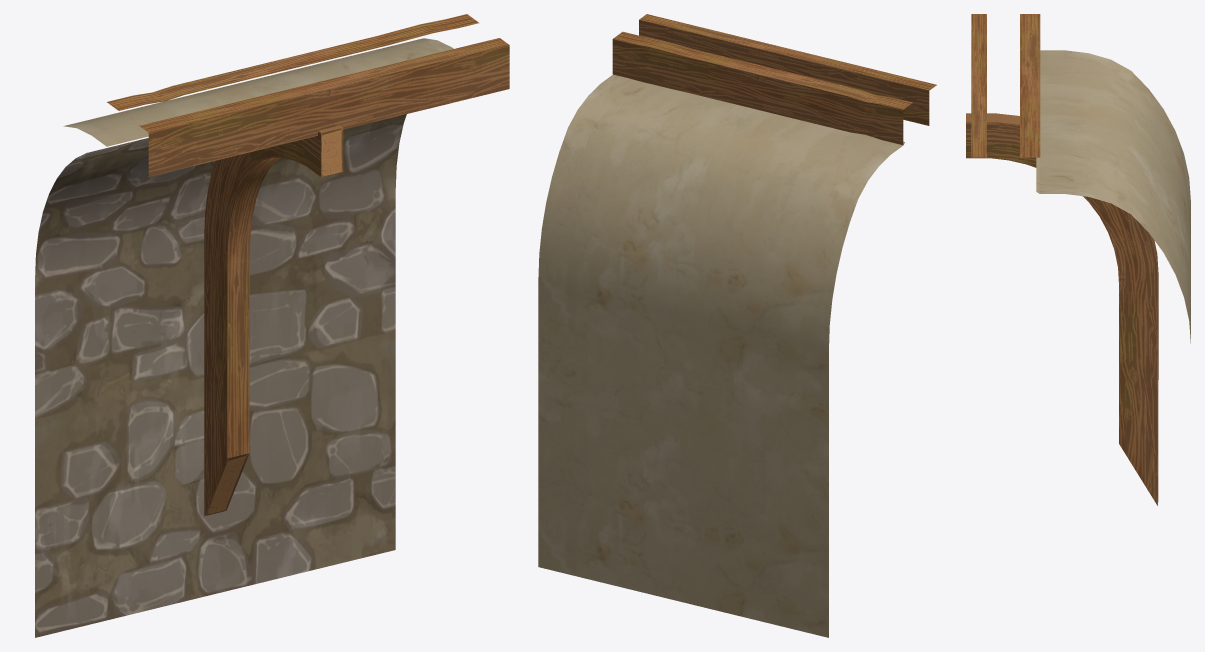
File: overhang-unevenbrick-short.glb
3 views of the same model, side by side, from view 1: azimuth 30°, elevation 25°; view 2: azimuth 150°, elevation 25°; view 3: azimuth 270°, elevation 25° (orthographic). The views are drawn at different scales.
Parts seen in each view (by area): view 1: Overhang_UnevenBrick_Short; view 2: Overhang_UnevenBrick_Short; view 3: Overhang_UnevenBrick_Short.
Part boxes in pixels (x1,y1,x2,y2): Overhang_UnevenBrick_Short: [35, 14, 509, 637]; Overhang_UnevenBrick_Short: [538, 14, 936, 637]; Overhang_UnevenBrick_Short: [966, 14, 1190, 505].
Size of the model in its own units: 2 by 3.12 by 1.32.
Materials: 3 (3 with a texture image).
